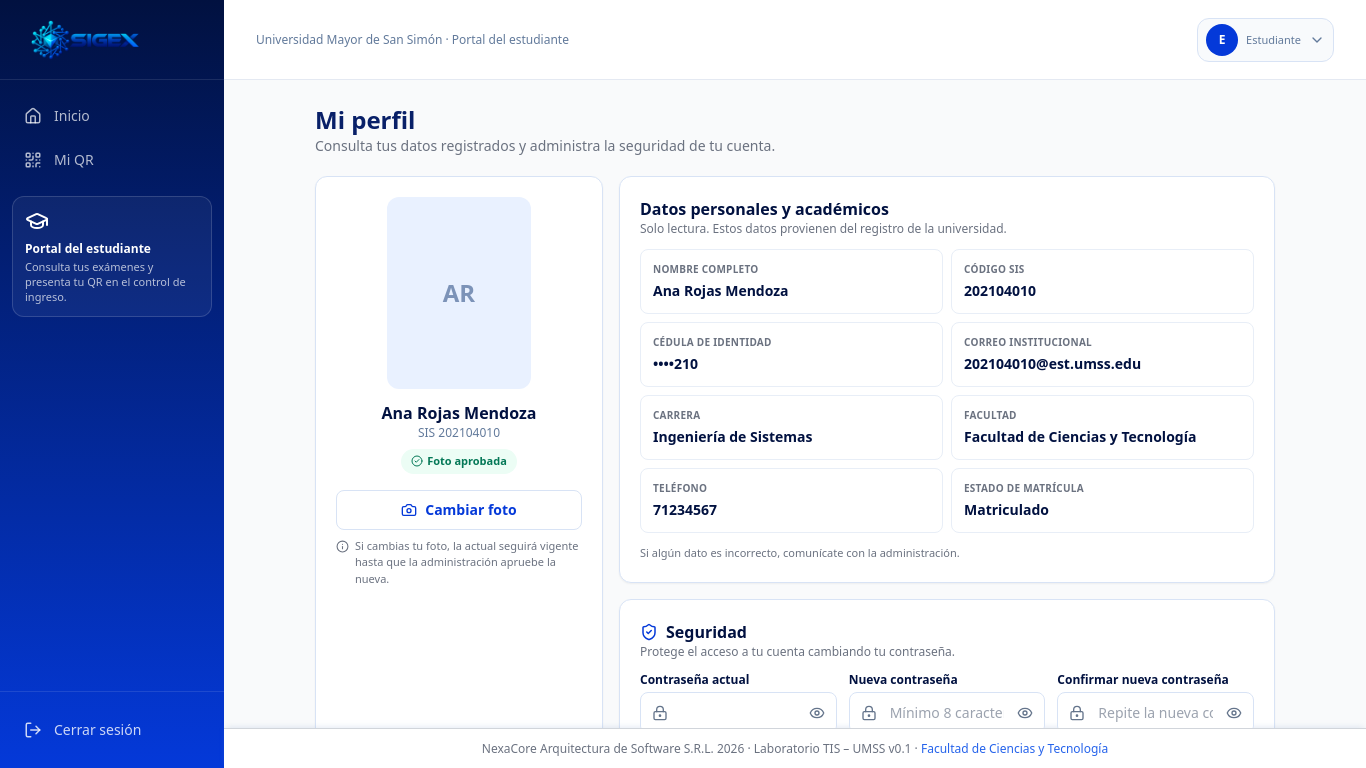
Test: MiPerfilPage (CTA-02) › si la contraseña actual es incorrecta lo indica en ese campo
Type "Mala#1234" into the password field labelled "Contraseña actual".
click(738, 712); type("Mala#1234")  # box [640,692,837,734]
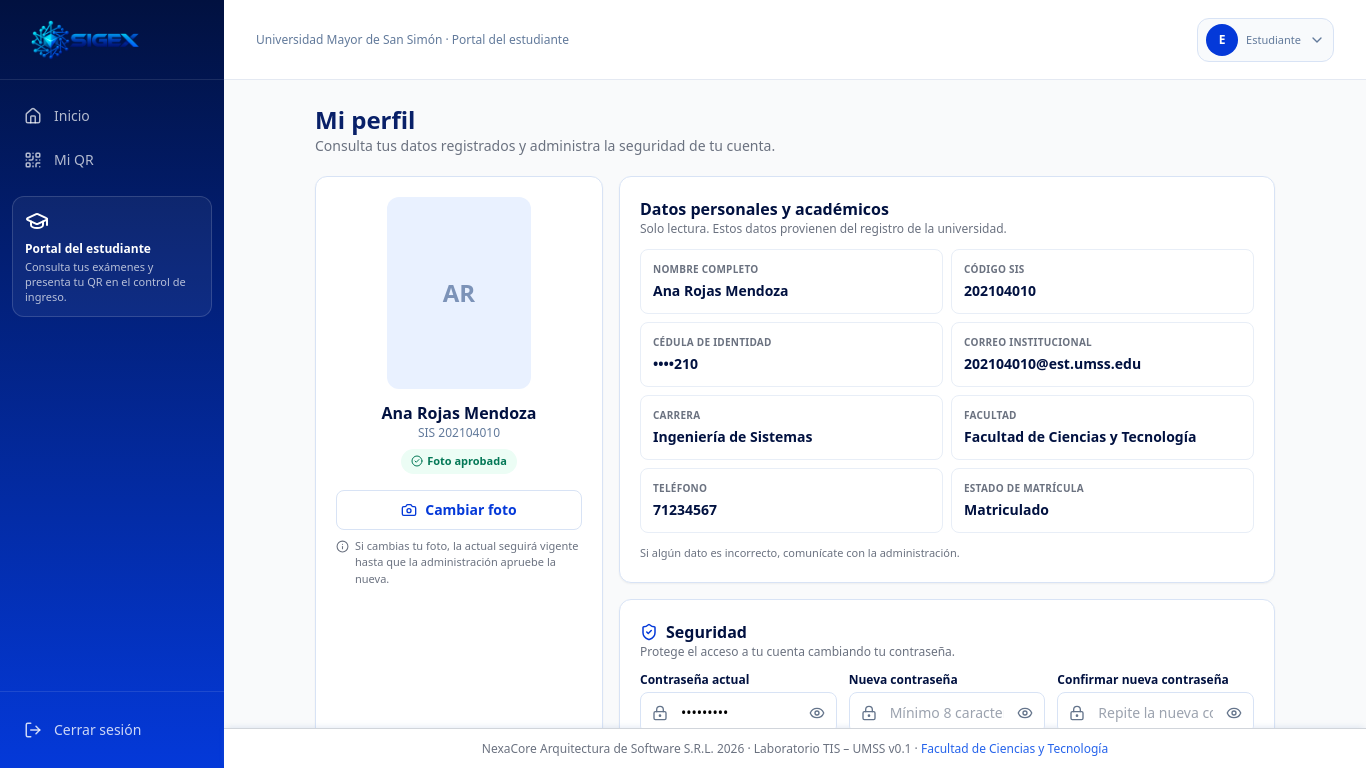
Type "Otra#Clave77" into the password field labelled "Nueva contraseña".
click(947, 712); type("Otra#Clave77")  # box [849,692,1045,734]
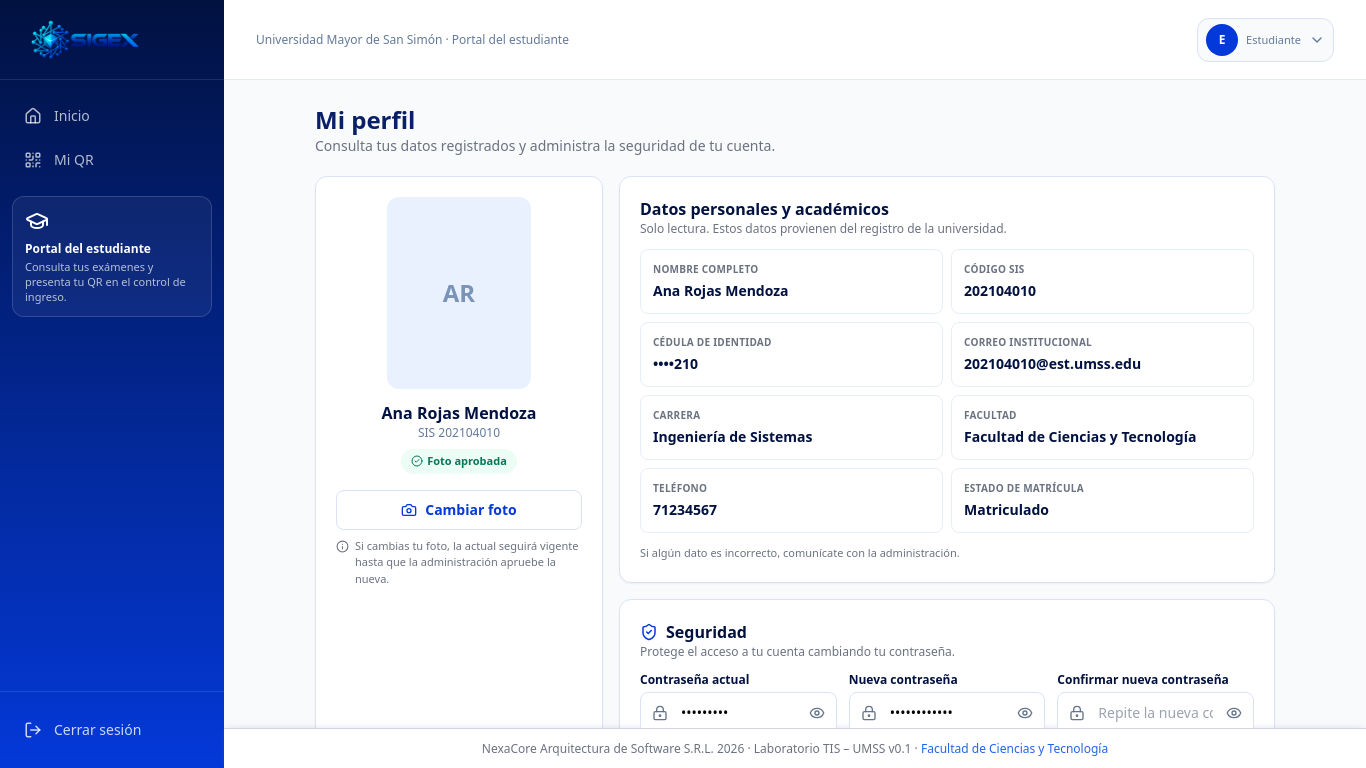
Type "Otra#Clave77" into the password field labelled "Confirmar nueva contraseña".
click(1156, 712); type("Otra#Clave77")  # box [1057,692,1254,734]
(page scrolled)
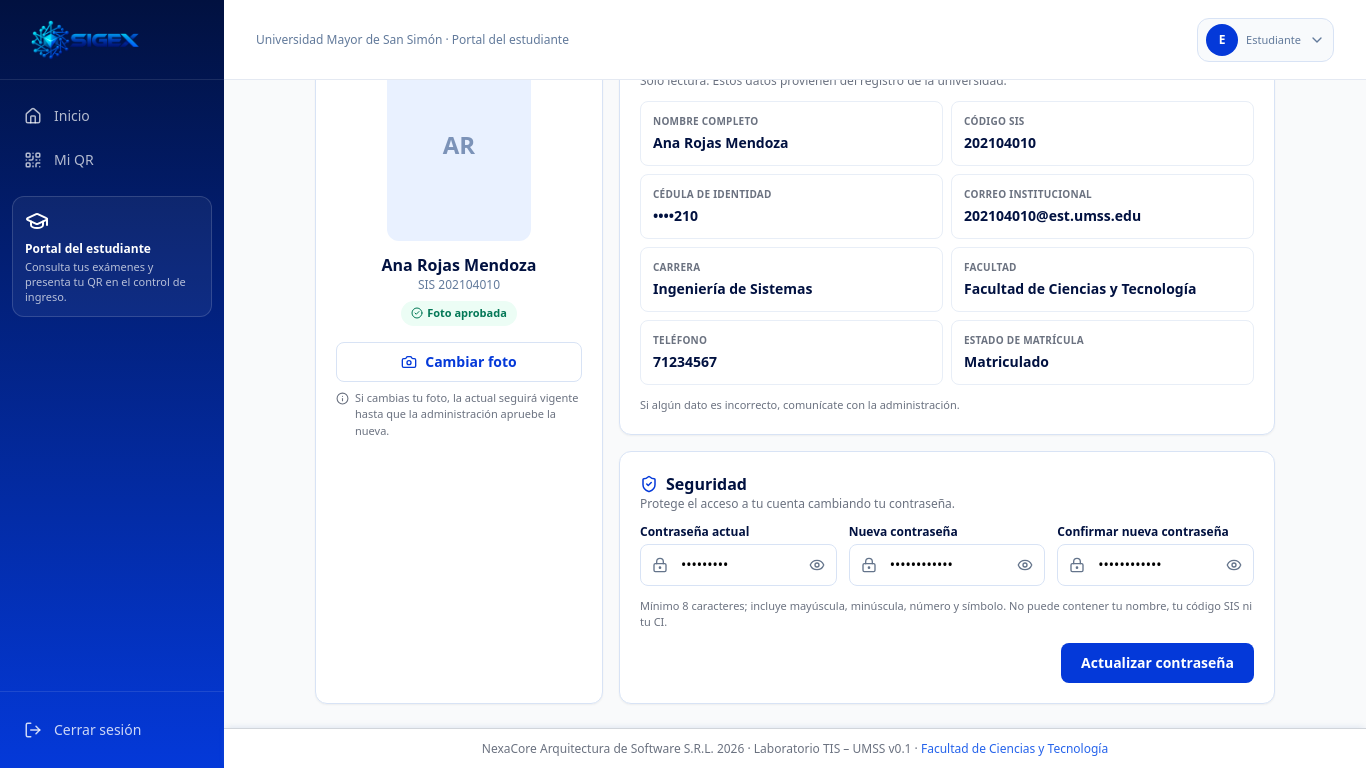
Click the button "Actualizar contraseña".
click(1158, 662)  # box [1061,642,1254,682]
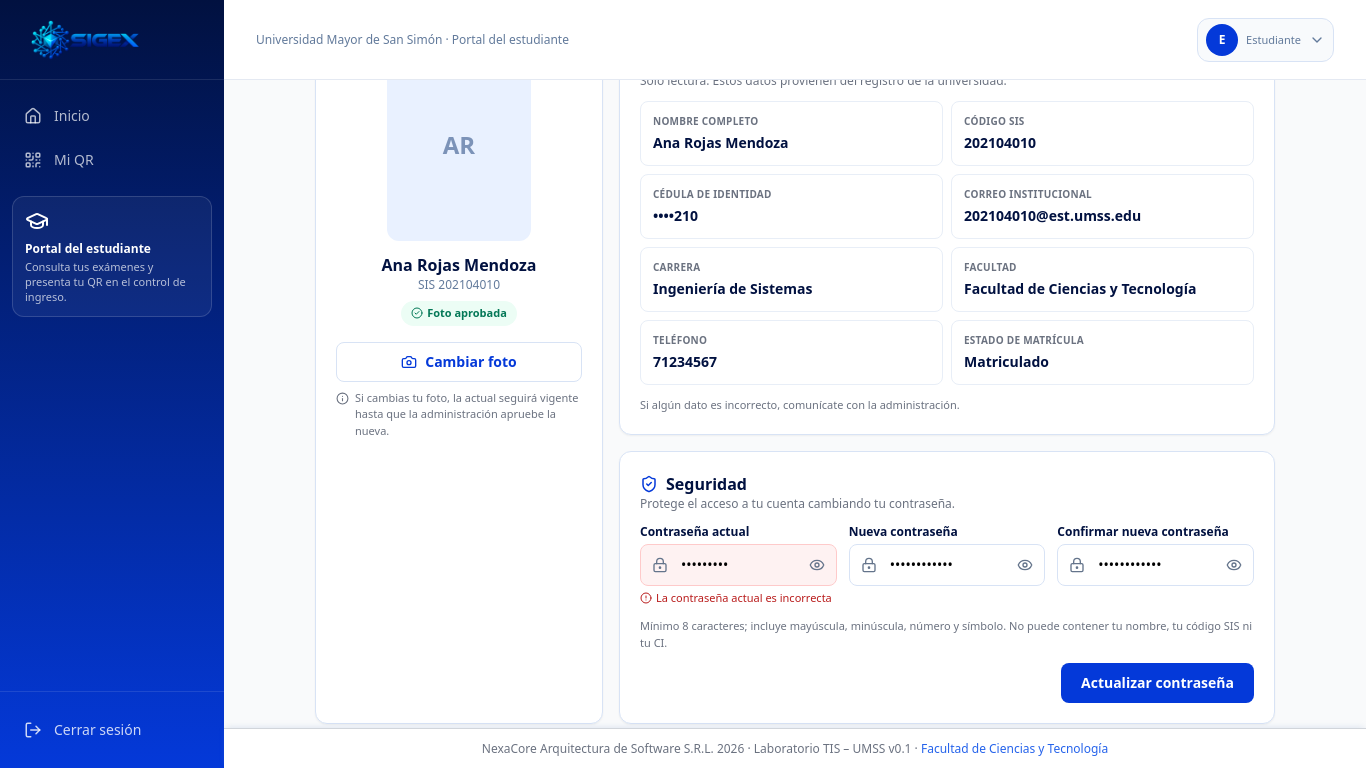
Check: the text "La contraseña actual es incorrecta" is shown, box [640,590,837,606]
